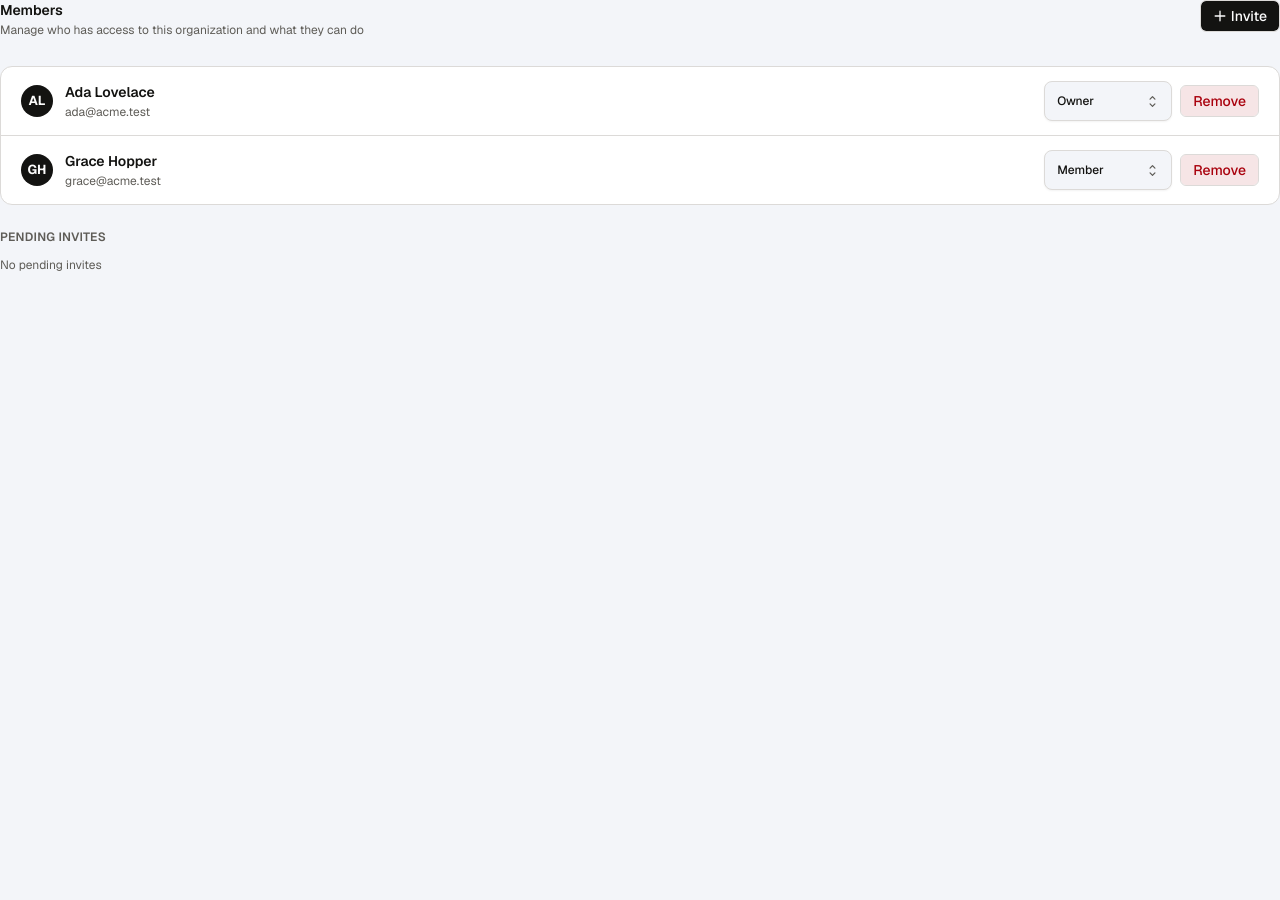
MembersSettingsPanel › shows a seat-limit error from the invite dialog
The width and height of the screenshot is (1280, 900).
Click the button "Invite".
click(1240, 16)  # box [1200,0,1279,32]
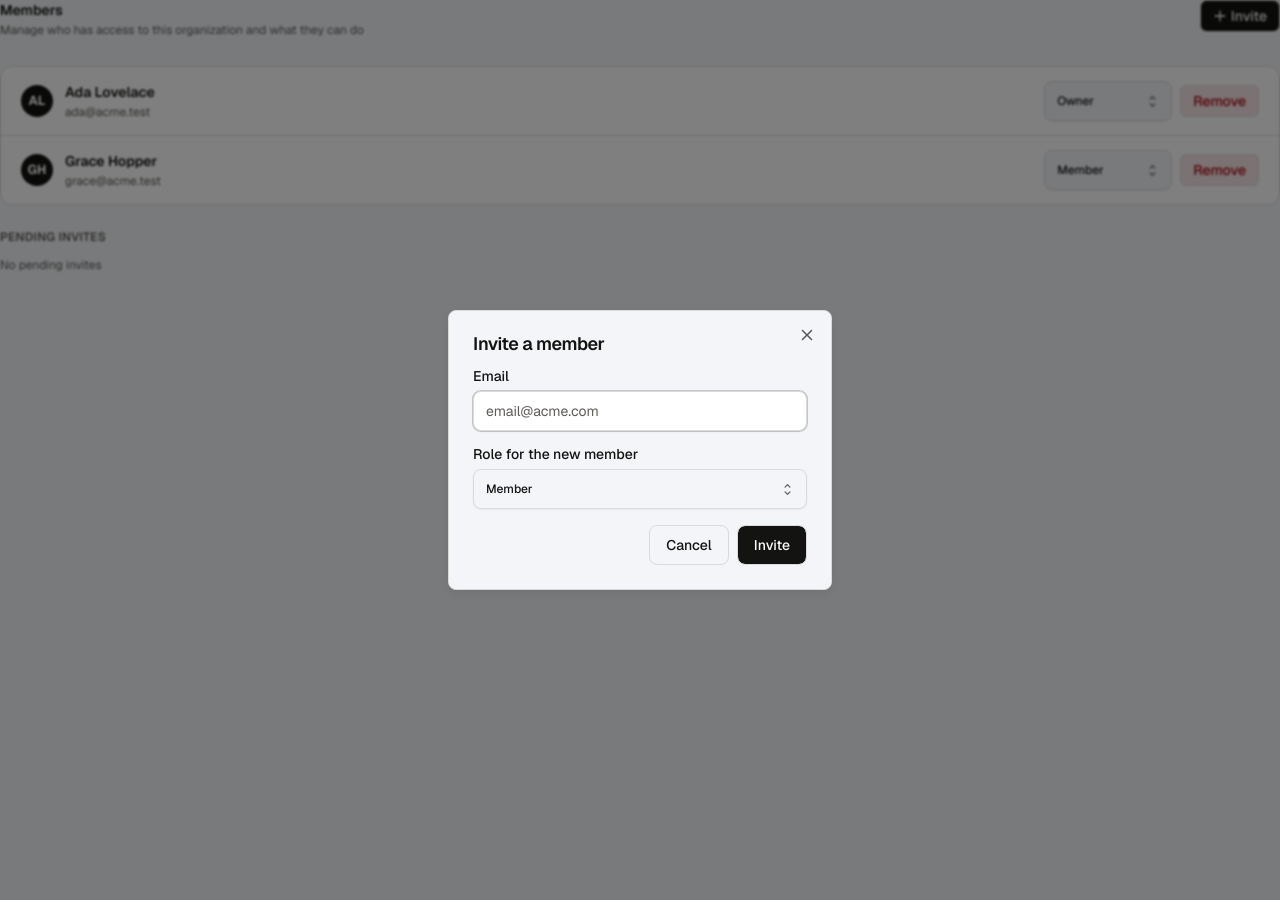
Type "new@acme.test" into the field labelled "Email".
click(640, 411); type("new@acme.test")  # box [473,391,807,431]
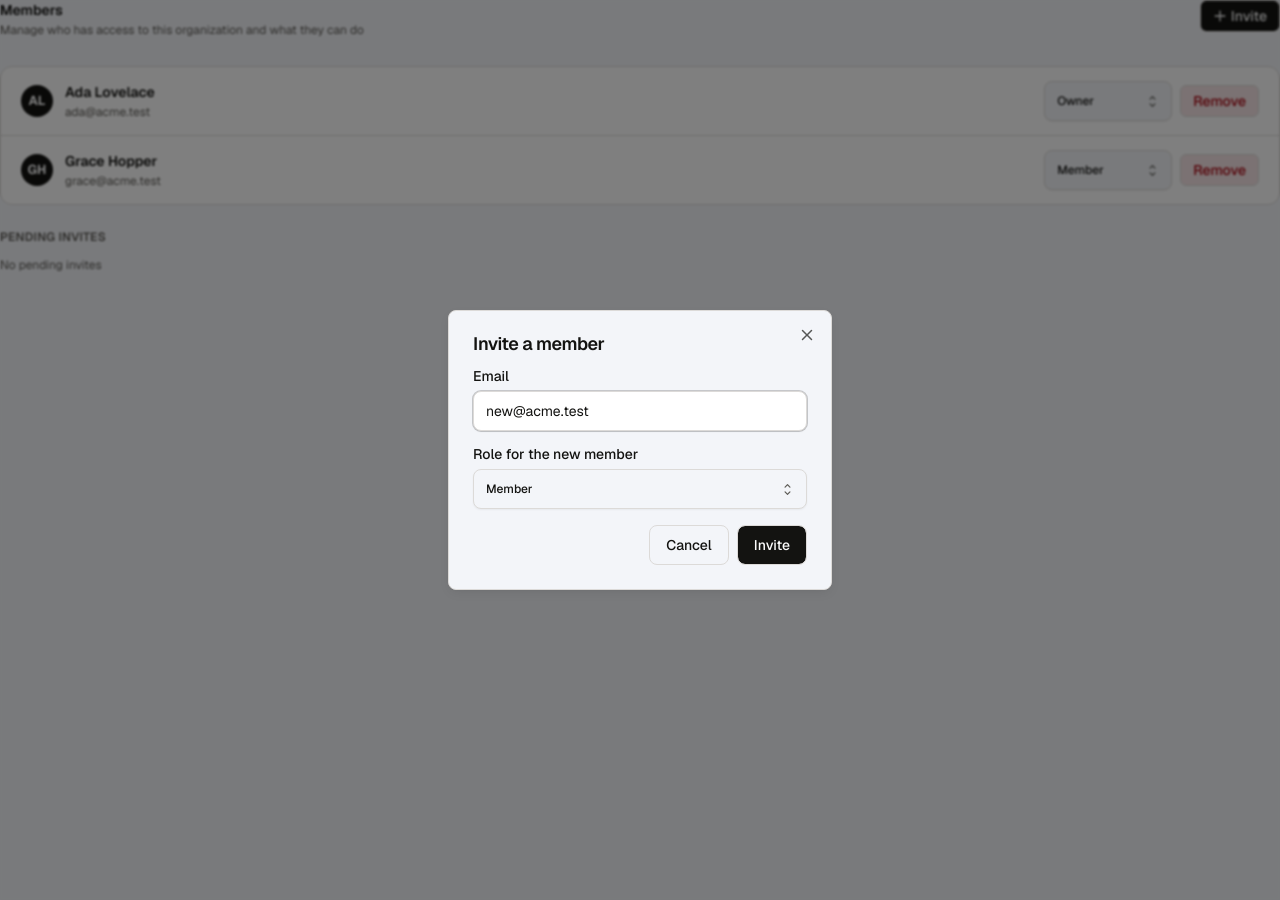
Click the button "Invite".
click(772, 545)  # box [737,525,807,565]
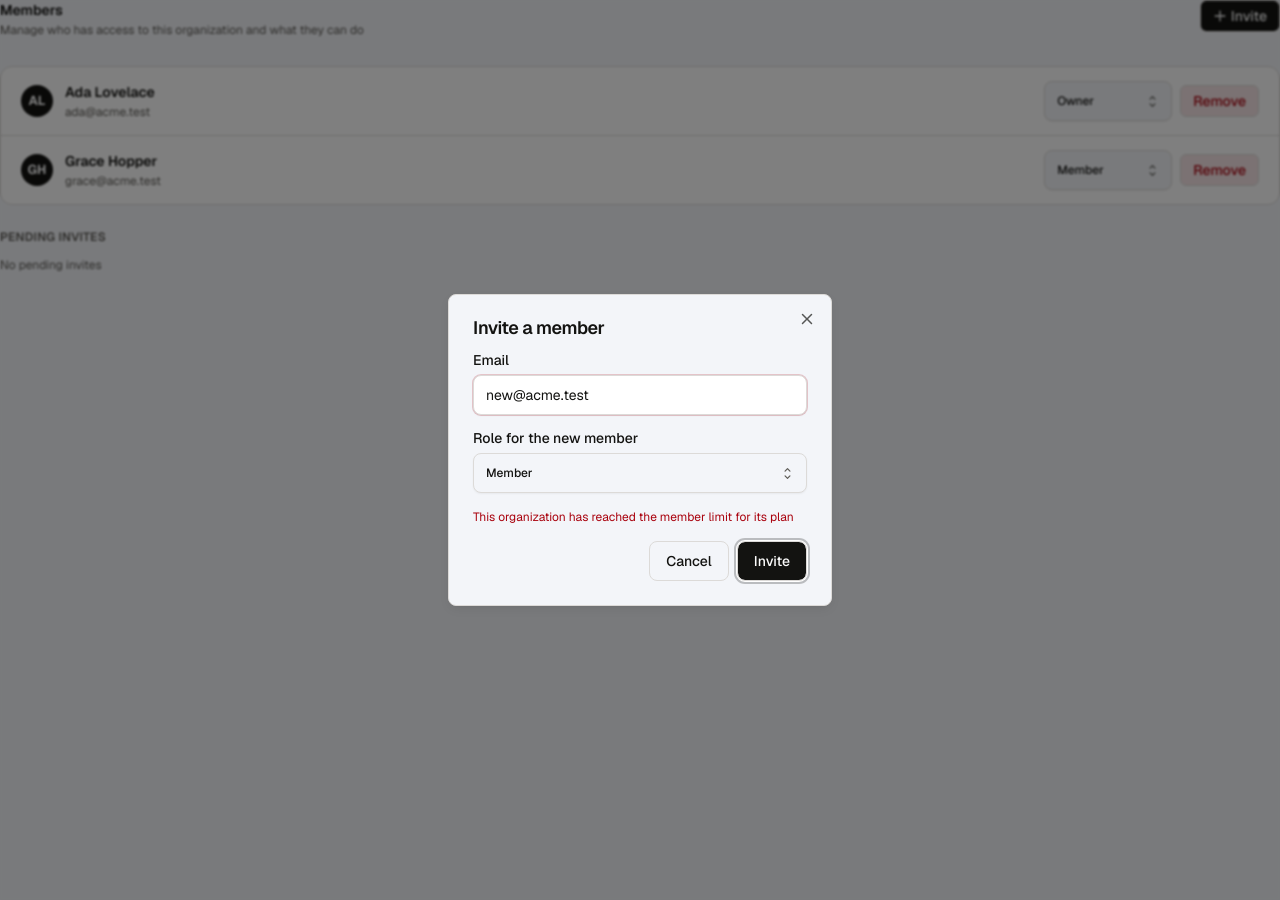
Expected: the text "This organization has reached the member limit for its plan" is shown, [473,509,807,525]
